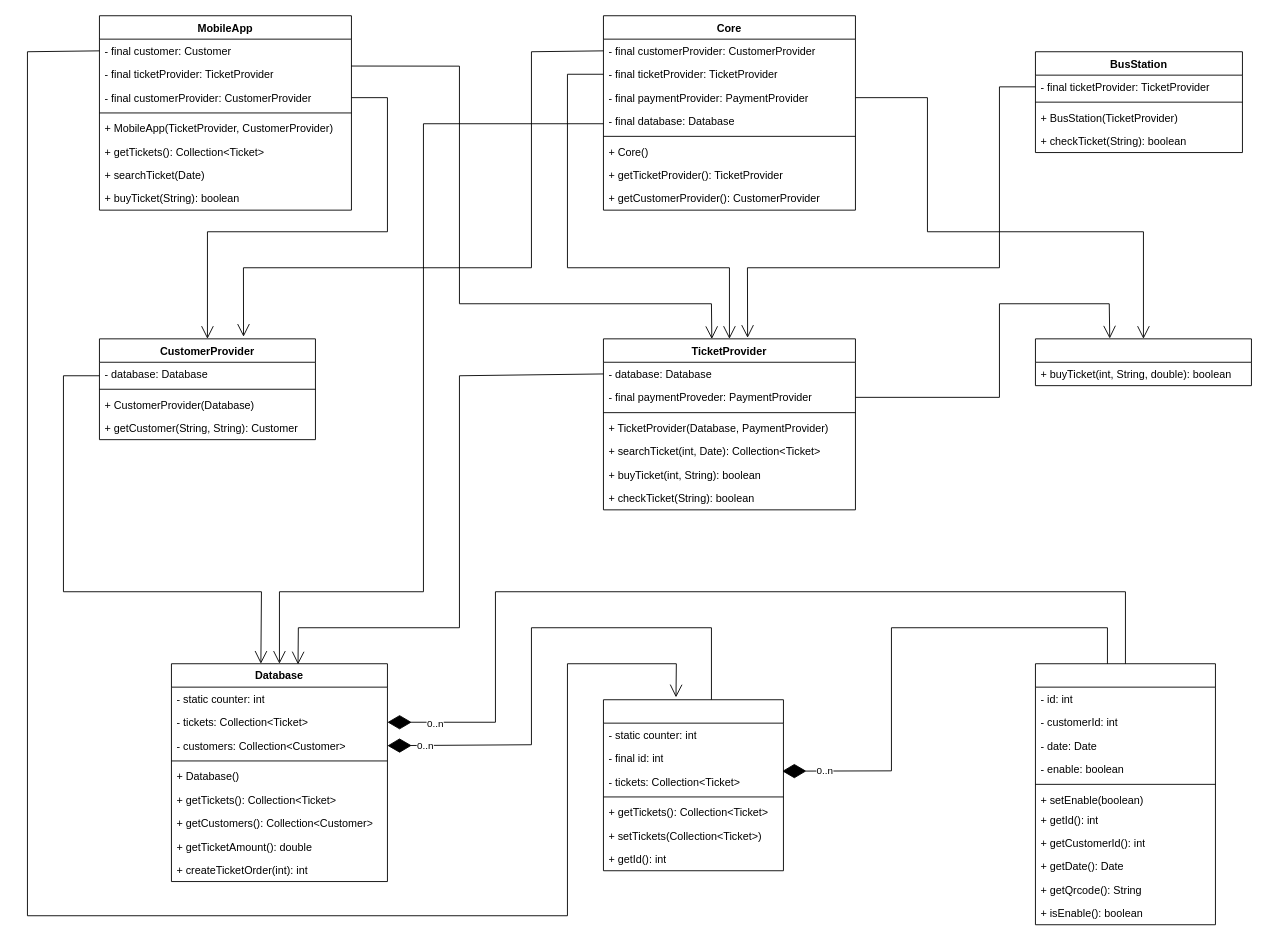
Image size: 1267x944. Some labels were removed from this diagram. The box of each missing label's shape, as (x1, y1, x2, y2) in pixels:
Customer: (603, 699, 783, 871)
PaymentProvider: (1035, 338, 1251, 386)
Ticket: (1035, 663, 1215, 925)
